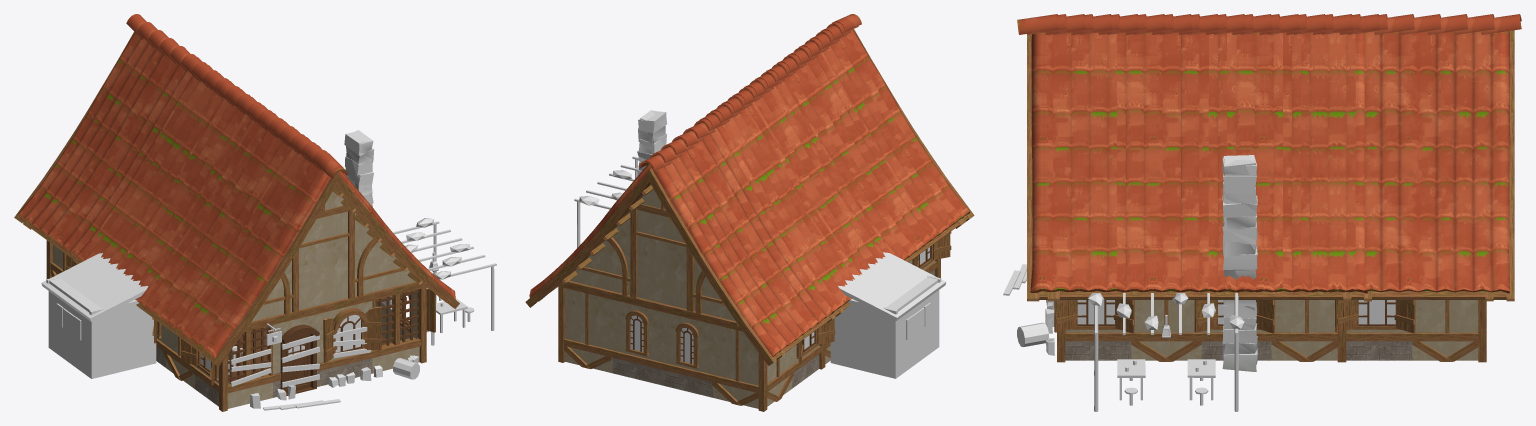
File: tavern.gltf
3 views of the same model, side by side, from view 1: azimuth 30°, elevation 25°; view 2: azimuth 150°, elevation 25°; view 3: azimuth 270°, elevation 25° (orthographic). The views are drawn at different scales.
Visible parts, largest first — view 1: T4_KitRoofRoundTiles8x12077, T1_KitRoofRoundTiles8x8055, T1_KitRoofFrontBrick8056, AO-guestroom_GuestWalls001, AO-guestroom_GuestRoof002, T1_KitWallPlasterWoodGrid010, T1_KitWallPlasterWoodGrid001, T1_KitWallPlasterWindowWideRound006, T1_KitWindowShuttersWideRoundOpen009, T1_KitWallPlasterDoorRound002, T1_KitWallPlasterStraight020, T1_KitDoorFrameRoundWoodDark003 (+8 smaller); view 2: T4_KitRoofRoundTiles8x12077, T1_KitRoofRoundTiles8x8055, T4_KitRoofFrontBrick8079, AO-guestroom_GuestWalls001, T4_KitWallPlasterStraight011, AO-guestroom_GuestRoof002, T4_KitWallPlasterStraight018, T4_KitWallPlasterWindowThinRound015, T4_KitWallPlasterWindowThinRound012, T4_KitWallPlasterStraight019, T4_KitWallPlasterWindowWideRound020, T4_KitWindowThinRound1013 (+5 smaller); view 3: T4_KitRoofRoundTiles8x12077, T1_KitRoofRoundTiles8x8055, T4_KitWallPlasterStraight048, T1_KitWallPlasterStraight034, T1_KitWallPlasterStraight029, T4_KitWallPlasterWindowWideRound044, T1_KitWallPlasterWindowWideRound025, T4_KitWindowShuttersWideRoundOpen047, T1_KitWindowShuttersWideRoundOpen033, T1_KitWallPlasterWindowWideRound030, T1_KitWindowShuttersWideRoundOpen028, T4_WindowGlass046 (+9 smaller).
Part boxes in pixels (box(x1,y1,x2,y2)): T4_KitRoofRoundTiles8x12077: box(14, 14, 459, 366); T1_KitRoofRoundTiles8x8055: box(72, 56, 449, 361); T1_KitRoofFrontBrick8056: box(244, 187, 427, 331); AO-guestroom_GuestWalls001: box(48, 278, 156, 378); AO-guestroom_GuestRoof002: box(41, 253, 148, 321); T1_KitWallPlasterWoodGrid010: box(372, 289, 420, 373); T1_KitWallPlasterWoodGrid001: box(227, 325, 274, 408); T1_KitWallPlasterWindowWideRound006: box(323, 300, 373, 385); T1_KitWindowShuttersWideRoundOpen009: box(323, 306, 381, 362); T1_KitWallPlasterDoorRound002: box(273, 313, 324, 397); T1_KitWallPlasterStraight020: box(163, 327, 194, 388); T1_KitDoorFrameRoundWoodDark003: box(280, 324, 319, 395); T4_KitRoofRoundTiles8x12077: box(525, 22, 974, 365); T1_KitRoofRoundTiles8x8055: box(699, 14, 972, 322); T4_KitRoofFrontBrick8079: box(557, 185, 742, 331); AO-guestroom_GuestWalls001: box(830, 277, 939, 378); T4_KitWallPlasterStraight011: box(564, 288, 612, 373); AO-guestroom_GuestRoof002: box(838, 252, 946, 320); T4_KitWallPlasterStraight018: box(711, 324, 758, 408); T4_KitWallPlasterWindowThinRound015: box(661, 312, 712, 397); T4_KitWallPlasterWindowThinRound012: box(611, 300, 662, 385); T4_KitWallPlasterStraight019: box(767, 348, 794, 406); T4_KitWallPlasterWindowWideRound020: box(792, 344, 821, 388); T4_KitWindowThinRound1013: box(625, 310, 648, 356); T4_KitRoofRoundTiles8x12077: box(1027, 14, 1521, 301); T1_KitRoofRoundTiles8x8055: box(1017, 14, 1379, 301); T4_KitWallPlasterStraight048: box(1412, 300, 1478, 361); T1_KitWallPlasterStraight034: box(1271, 300, 1337, 361); T1_KitWallPlasterStraight029: box(1131, 300, 1201, 361); T4_KitWallPlasterWindowWideRound044: box(1346, 329, 1412, 360); T1_KitWallPlasterWindowWideRound025: box(1065, 329, 1131, 360); T4_KitWindowShuttersWideRoundOpen047: box(1335, 300, 1415, 333); T1_KitWindowShuttersWideRoundOpen033: box(1194, 300, 1275, 333); T1_KitWallPlasterWindowWideRound030: box(1201, 329, 1271, 360); T1_KitWindowShuttersWideRoundOpen028: box(1054, 300, 1134, 333); T4_WindowGlass046: box(1358, 300, 1395, 324).
Size of the model in its own units: 14.42 by 9.07 by 14.76.
29 materials, 29 textured.
